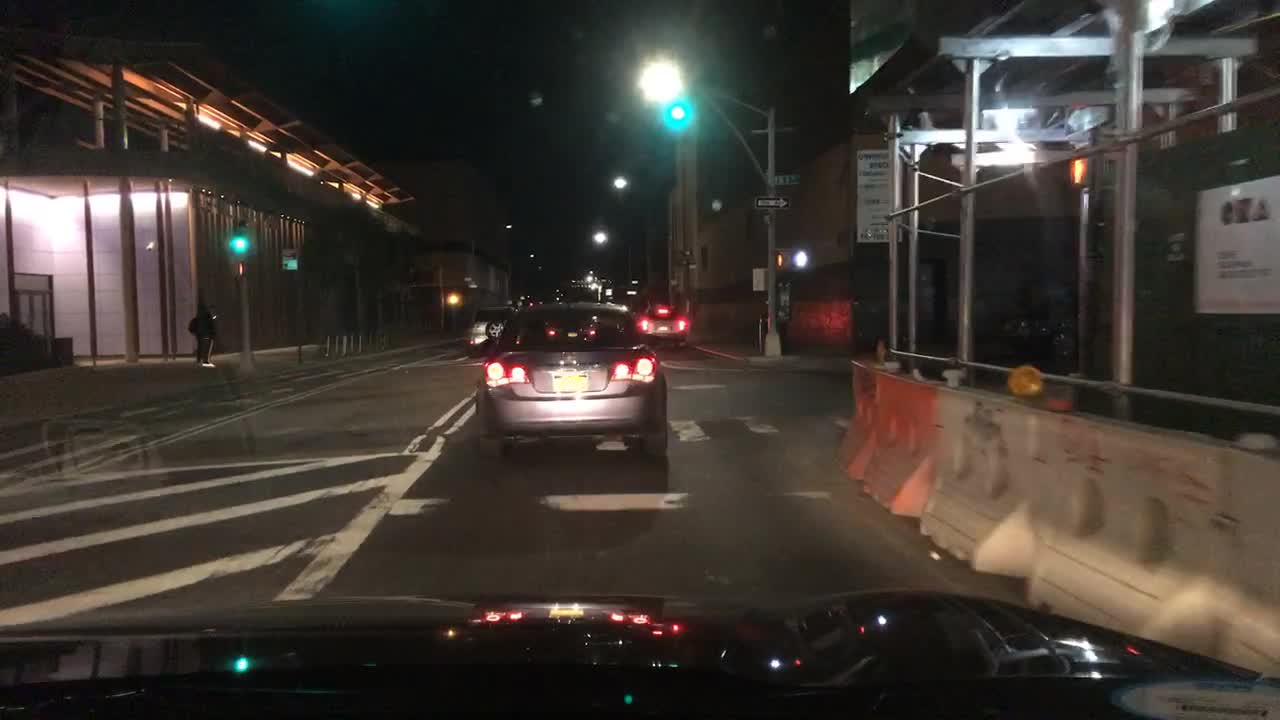car: (471, 300, 669, 455), (1011, 292, 1097, 362), (466, 303, 516, 359), (637, 303, 690, 349)
person: (187, 300, 216, 366), (207, 303, 219, 367)
traffic light: (1069, 153, 1092, 185), (788, 248, 810, 267), (235, 216, 246, 248), (773, 248, 786, 269), (668, 105, 686, 120), (234, 259, 246, 276)
traffic sign: (754, 195, 790, 208), (775, 173, 802, 186), (624, 289, 639, 295), (604, 287, 613, 297), (467, 283, 480, 288)
